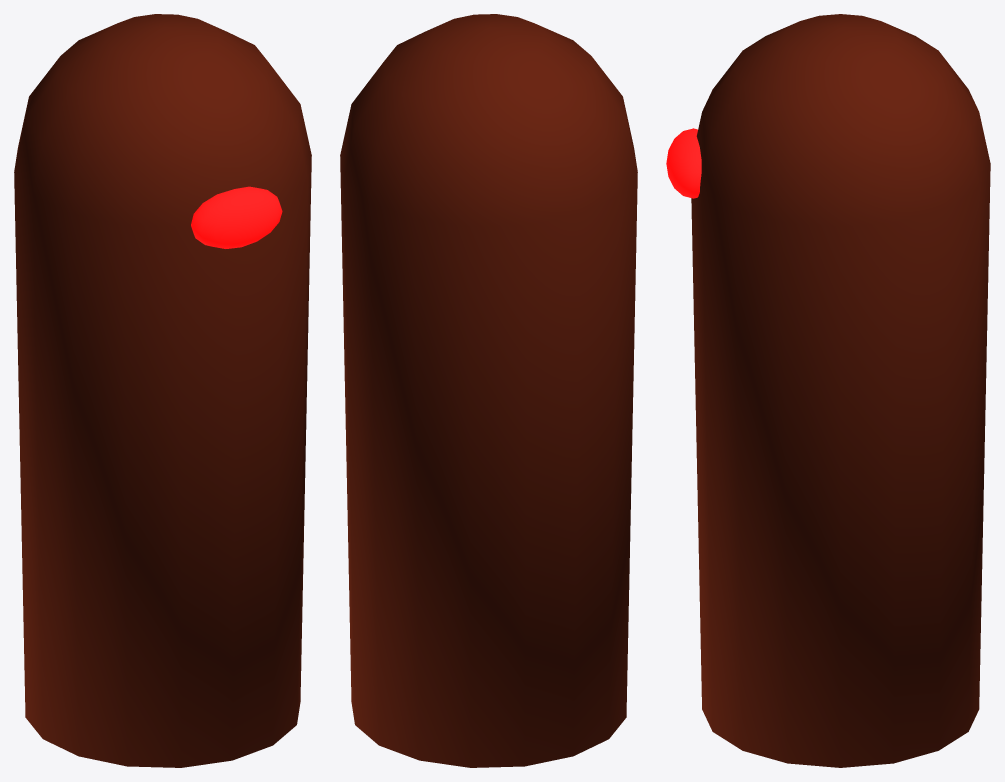
The model's file is Inimigo03_Mapa012_Pokemon.FBX.
3 renders of one model, left to right at view 1: azimuth 30°, elevation 25°; view 2: azimuth 150°, elevation 25°; view 3: azimuth 270°, elevation 25°, orthographic.
Visible parts, largest first — view 1: Sphere003, Sphere004; view 2: Sphere003; view 3: Sphere003, Sphere004.
Part boxes in pixels (<box>): Sphere003: <box>14,14,311,767</box>; Sphere004: <box>191,186,282,248</box>; Sphere003: <box>340,14,637,767</box>; Sphere003: <box>691,14,990,767</box>; Sphere004: <box>666,128,701,198</box>.
Size of the model in its own units: 94.03 by 236 by 102.
